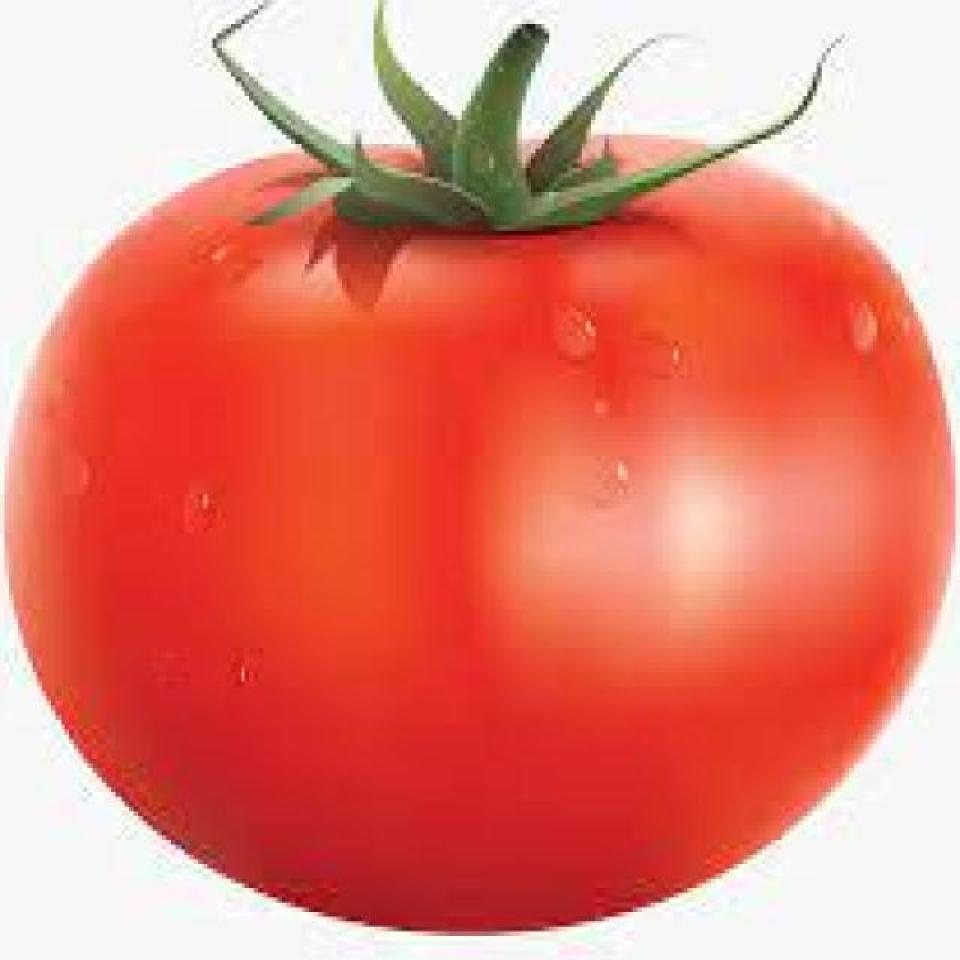Healthy: (3, 64, 960, 935)
